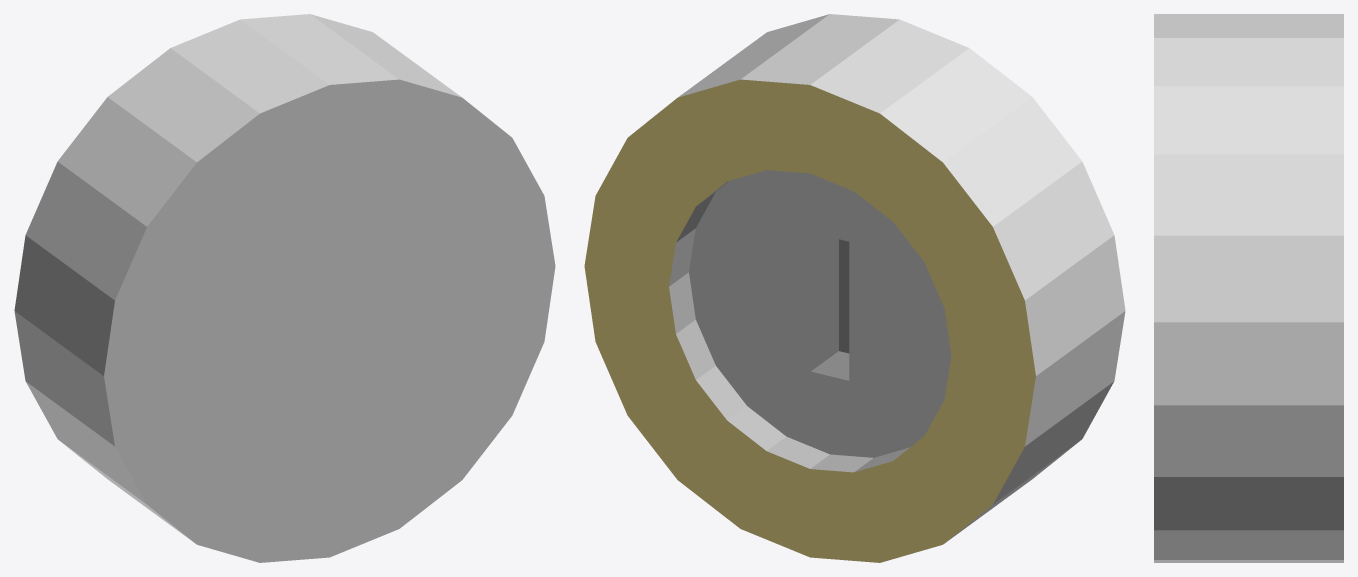
File: Cupboard Lock.fbx
The picture shows the model from 3 angles, left to right: view 1: azimuth 30°, elevation 25°; view 2: azimuth 150°, elevation 25°; view 3: azimuth 270°, elevation 25°; orthographic projection. The views are drawn at different scales.
Parts seen in each view (by area): view 1: Cupboard Lock; view 2: Cupboard Lock; view 3: Cupboard Lock.
Part boxes in pixels (box(x1,y1,x2,y2)): Cupboard Lock: box(14, 14, 555, 562); Cupboard Lock: box(584, 14, 1125, 562); Cupboard Lock: box(1154, 14, 1343, 562).
Size of the model in its own units: 0.0712 by 0.0712 by 0.0245.
